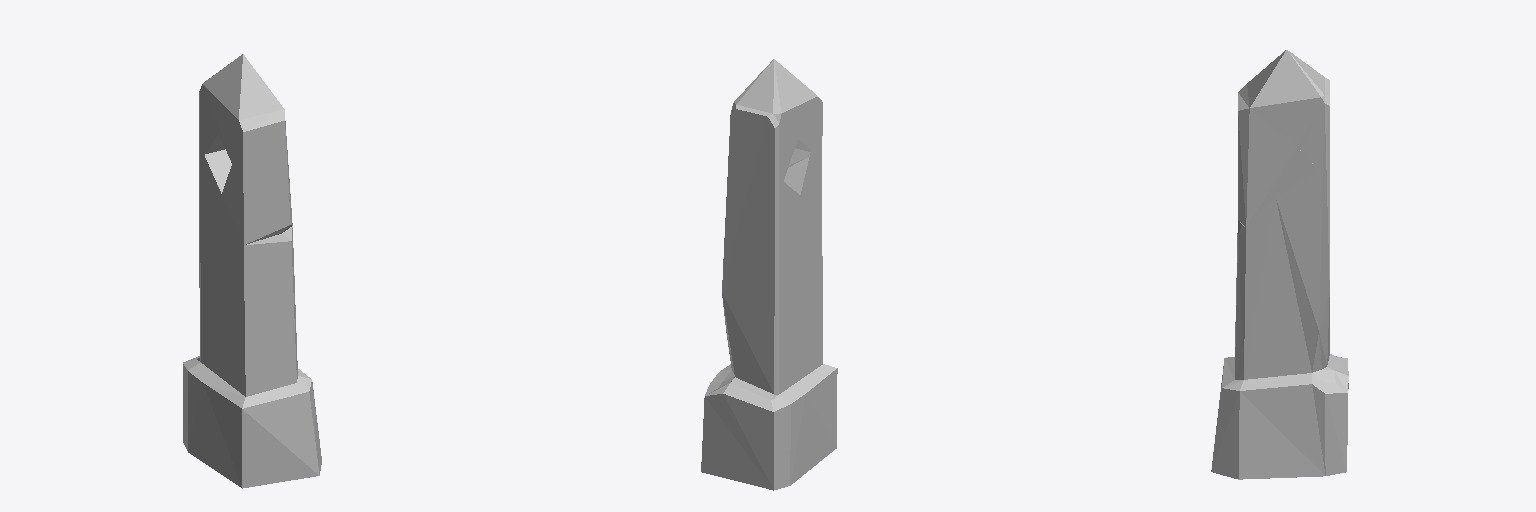
The model's file is landmark--obelisk__01.obj.
3 renders of one model, left to right at view 1: azimuth 30°, elevation 25°; view 2: azimuth 150°, elevation 25°; view 3: azimuth 270°, elevation 25°, orthographic.
Parts seen in each view (by area): view 1: obelisk__01_Cube.010; view 2: obelisk__01_Cube.010; view 3: obelisk__01_Cube.010.
Boxes of the visible parts, <box> form: obelisk__01_Cube.010: <box>183,54,321,488</box>; obelisk__01_Cube.010: <box>701,59,837,490</box>; obelisk__01_Cube.010: <box>1211,50,1348,479</box>.
Bounding box in the file's own units: 1.61 × 6.85 × 2.11.